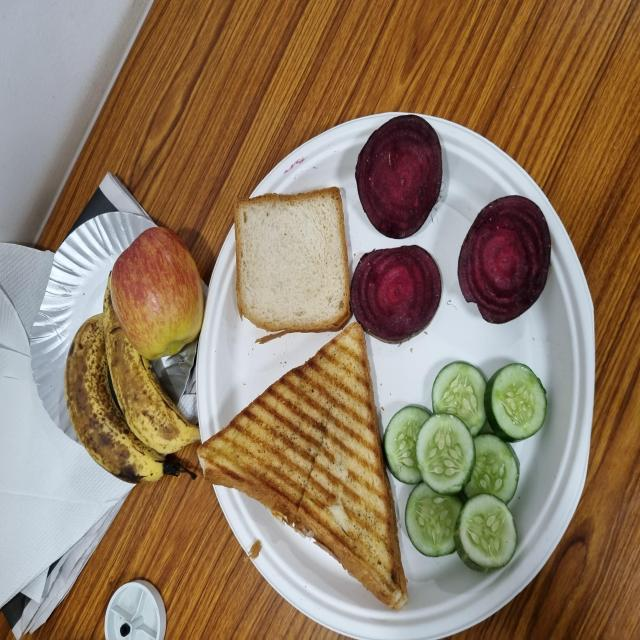apple: (108, 228, 205, 361)
banana: (64, 317, 164, 486), (100, 312, 198, 460)
cucumber: (430, 361, 505, 441), (485, 361, 548, 445), (456, 495, 520, 576), (401, 485, 468, 561), (418, 415, 476, 495), (461, 434, 521, 507), (383, 405, 435, 488)
